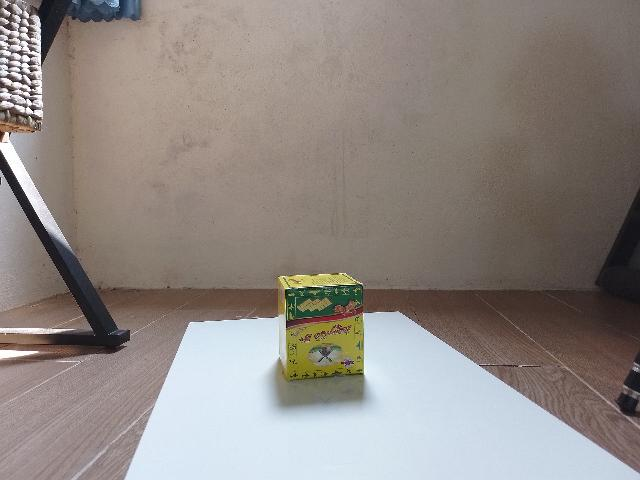luong_kho: (277, 274, 365, 384)
